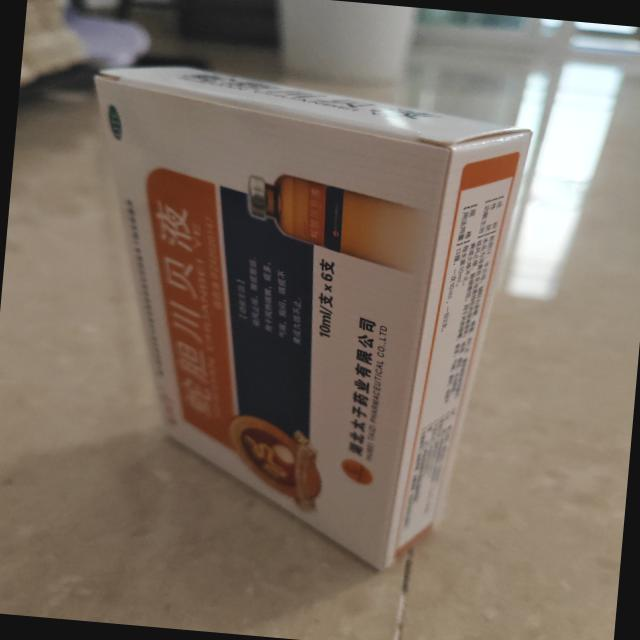box: (43, 47, 546, 589)
